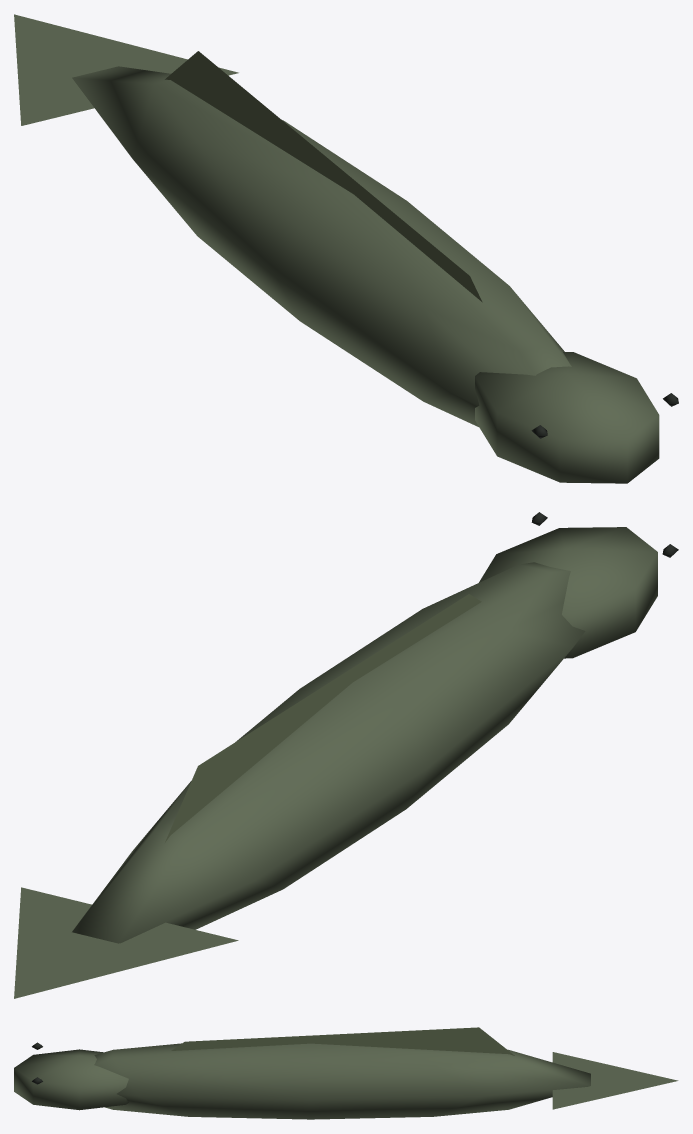
The model's file is snakehead-0.glb.
3 views of the same model, one above another, from view 1: azimuth 30°, elevation 25°; view 2: azimuth 150°, elevation 25°; view 3: azimuth 270°, elevation 25° (orthographic). The views are drawn at different scales.
Parts seen in each view (by area): view 1: snakehead; view 2: snakehead; view 3: snakehead.
Boxes of the visible parts, x1,y1,x2,y2 form: snakehead: (14,14,678,483); snakehead: (14,512,678,998); snakehead: (14,1027,678,1119).
Size of the model in its own units: 0.13 by 0.093 by 0.6324.
